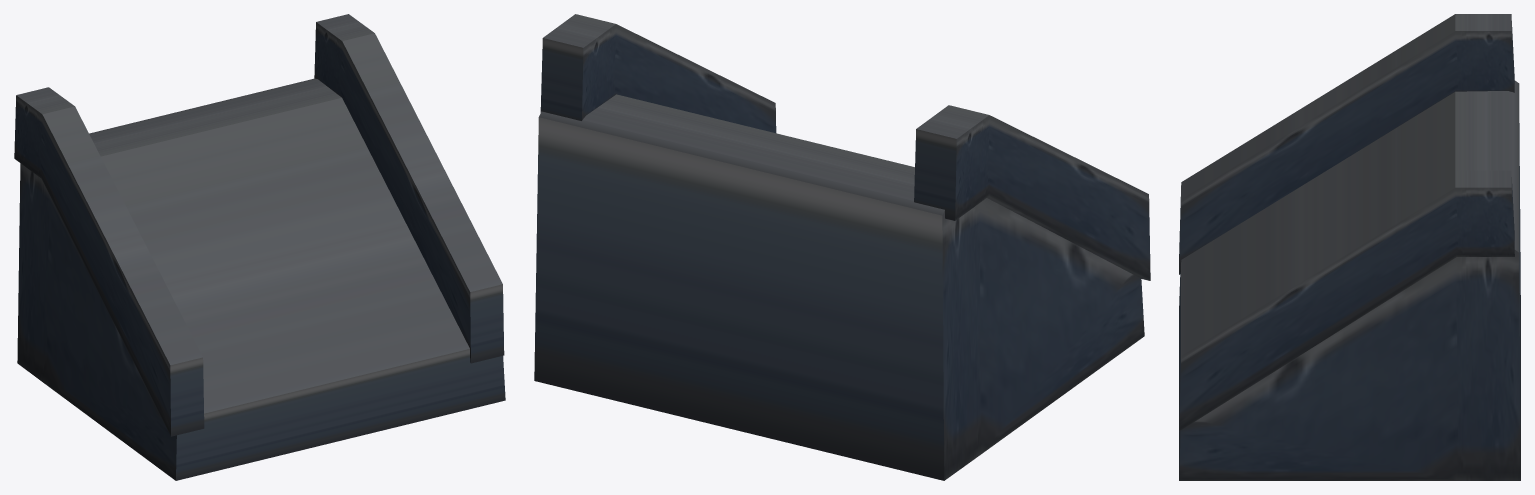
The model's file is CBS_ground_stair_coll.FBX.
3 renders of one model, left to right at view 1: azimuth 30°, elevation 25°; view 2: azimuth 150°, elevation 25°; view 3: azimuth 270°, elevation 25°, orthographic. The views are drawn at different scales.
Visible parts, largest first — view 1: CBS_ground_stair_coll; view 2: CBS_ground_stair_coll; view 3: CBS_ground_stair_coll.
Boxes of the visible parts, x1=… form: CBS_ground_stair_coll: x1=14, y1=14, x2=505, y2=480; CBS_ground_stair_coll: x1=534, y1=14, x2=1150, y2=480; CBS_ground_stair_coll: x1=1179, y1=14, x2=1520, y2=480.
Bounding box in the file's own units: 187 × 145 × 154.
